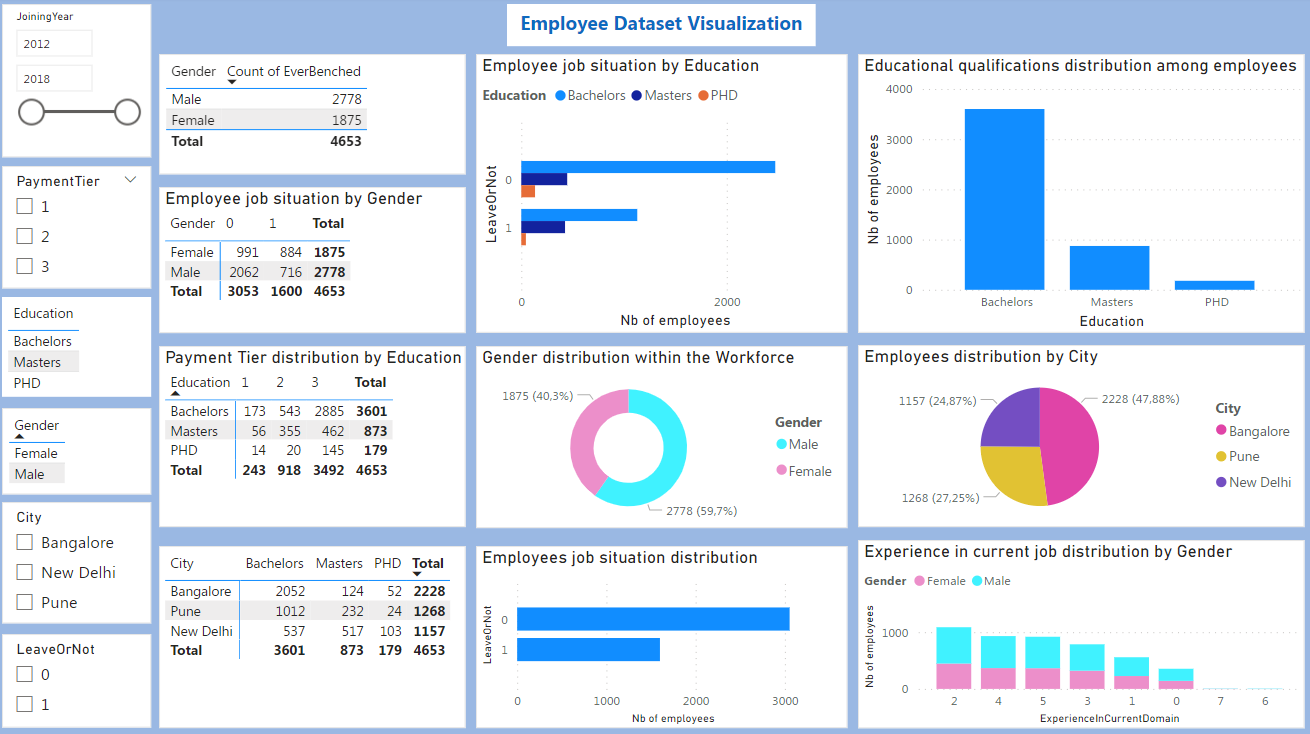

The page's visual inventory and layout, read from the dashboard file:
{"tool":"powerbi","page":{"name":"Employee dataset","canvas":[1280,720],"ordinal":0},"visuals":[{"type":"columnChart","title":"Educational qualifications distribution among employees","fields":{"Category":["Employee.Education"],"Y":["Employee.Nb of employees"]},"box":[835.8,55.4,434.4,271.2],"z":0},{"type":"clusteredBarChart","title":"Employee job situation by Education","fields":{"Category":["Employee.LeaveOrNot"],"Y":["Employee.Nb of employees"],"Series":["Employee.Education"]},"box":[464.6,55.4,360.6,271.2],"z":1000},{"type":"pivotTable","title":"Employee job situation by Gender","fields":{"Rows":["Employee.Gender"],"Values":["Employee.Nb of employees"],"Columns":["Employee.LeaveOrNot"]},"box":[156.5,184.7,298.4,141.9],"z":2000},{"type":"pieChart","title":"Employees distribution by City","fields":{"Y":["Employee.Nb of employees"],"Category":["Employee.City"]},"box":[835.8,338.2,434.4,176.9],"z":3000},{"type":"donutChart","title":"Gender distribution within the Workforce","fields":{"Category":["Employee.Gender"],"Y":["Employee.Nb of employees"]},"box":[464.6,339.2,360.6,176.9],"z":4000},{"type":"pivotTable","title":"Payment Tier distribution by Education","fields":{"Rows":["Employee.Education"],"Values":["Employee.Nb of employees"],"Columns":["Employee.PaymentTier"]},"box":[156.5,339.2,298.4,175.9],"z":5000},{"type":"slicer","fields":{"Values":["Employee.PaymentTier"]},"box":[3.9,164.3,144.8,118.6],"z":6000},{"type":"tableEx","fields":{"Values":["Employee.Gender"]},"box":[3.9,399.5,144.8,83.6],"z":7000},{"type":"slicer","fields":{"Values":["Employee.City"]},"box":[3.9,490.8,144.8,117.6],"z":8000},{"type":"slicer","fields":{"Values":["Employee.JoiningYear"]},"box":[3.9,6.8,144.8,148.7],"z":9000},{"type":"tableEx","fields":{"Values":["Employee.Gender","CountNonNull(Employee.EverBenched)"]},"box":[156.5,55.4,298.4,116.6],"z":10000},{"type":"slicer","fields":{"Values":["Employee.LeaveOrNot"]},"box":[3.9,619.1,144.8,91.4],"z":11000},{"type":"pivotTable","fields":{"Rows":["Employee.City"],"Columns":["Employee.Education"],"Values":["Employee.Nb of employees"]},"box":[156.5,533.6,298.4,176.9],"z":12000},{"type":"barChart","title":"Employees job situation distribution","fields":{"Category":["Employee.LeaveOrNot"],"Y":["Employee.Nb of employees"]},"box":[464.6,533.6,360.6,176.9],"z":13000},{"type":"columnChart","title":"Experience in current  job distribution by Gender","fields":{"Category":["Employee.ExperienceInCurrentDomain"],"Series":["Employee.Gender"],"Y":["Employee.Nb of employees"]},"box":[835.8,527.7,434.4,182.7],"z":14000},{"type":"textbox","box":[494.7,6.8,300.3,40.8],"z":15000},{"type":"tableEx","fields":{"Values":["Employee.Education"]},"box":[3.9,291.6,144.8,97.2],"z":16000}]}

Visuals, with their boxes in screenshot pixels (x1, y1, x2, y2), scaled from the page's 1280x720 canvas onto the 1310x734 screenshot:
"Educational qualifications distribution among employees" columnChart: [x1=855, y1=56, x2=1300, y2=333]
"Employee job situation by Education" clusteredBarChart: [x1=475, y1=56, x2=845, y2=333]
"Employee job situation by Gender" pivotTable: [x1=160, y1=188, x2=466, y2=333]
"Employees distribution by City" pieChart: [x1=855, y1=345, x2=1300, y2=525]
"Gender distribution within the Workforce" donutChart: [x1=475, y1=346, x2=845, y2=526]
"Payment Tier distribution by Education" pivotTable: [x1=160, y1=346, x2=466, y2=525]
slicer - Employee.PaymentTier: [x1=4, y1=167, x2=152, y2=288]
tableEx - Employee.Gender: [x1=4, y1=407, x2=152, y2=492]
slicer - Employee.City: [x1=4, y1=500, x2=152, y2=620]
slicer - Employee.JoiningYear: [x1=4, y1=7, x2=152, y2=159]
tableEx - Employee.Gender x CountNonNull(Employee.EverBenched): [x1=160, y1=56, x2=466, y2=175]
slicer - Employee.LeaveOrNot: [x1=4, y1=631, x2=152, y2=724]
pivotTable - Employee.City x Employee.Education: [x1=160, y1=544, x2=466, y2=724]
"Employees job situation distribution" barChart: [x1=475, y1=544, x2=845, y2=724]
"Experience in current  job distribution by Gender" columnChart: [x1=855, y1=538, x2=1300, y2=724]
textbox: [x1=506, y1=7, x2=814, y2=49]
tableEx - Employee.Education: [x1=4, y1=297, x2=152, y2=396]
